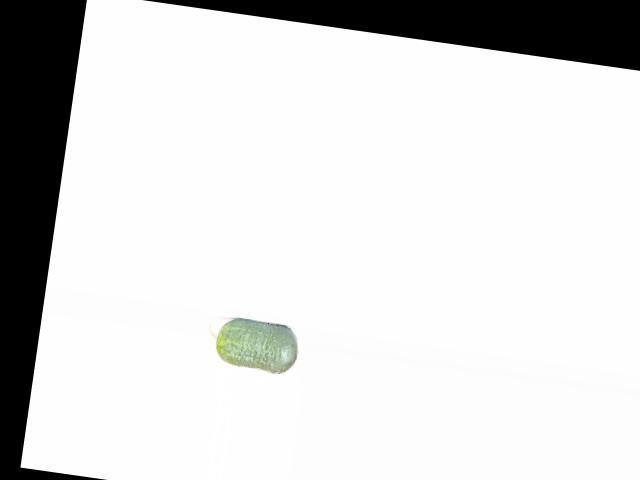cucumber: (203, 313, 300, 376)
